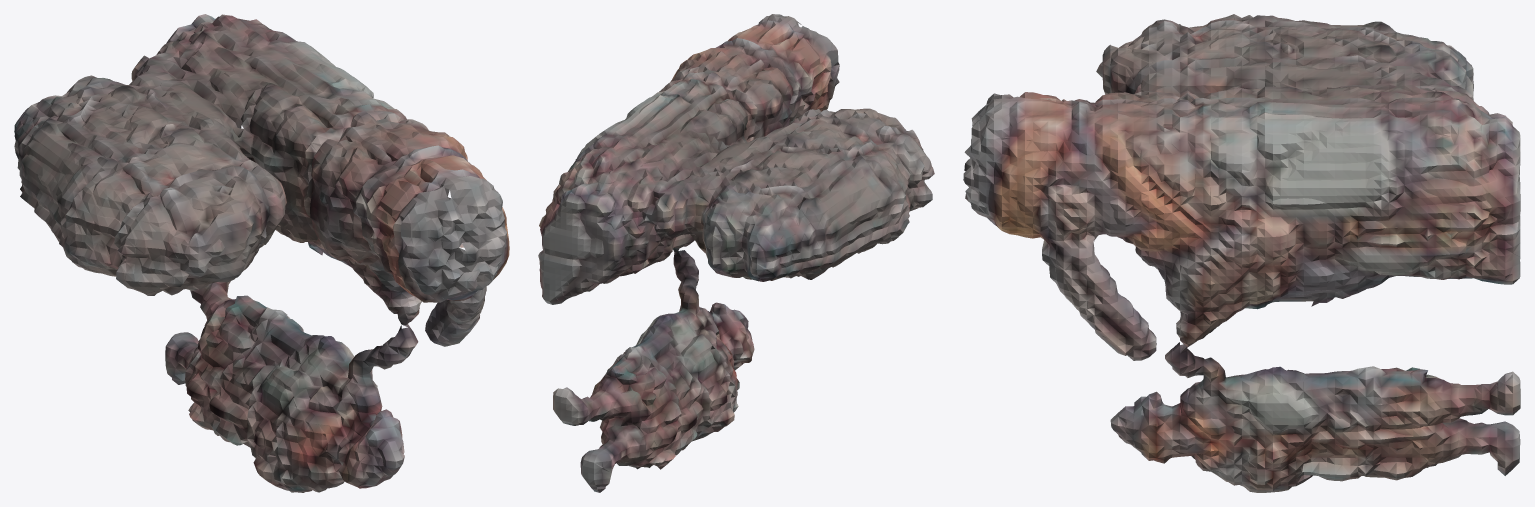
File: prehist_scholar_m_0.glb
3 renders of one model, left to right at view 1: azimuth 30°, elevation 25°; view 2: azimuth 150°, elevation 25°; view 3: azimuth 270°, elevation 25°, orthographic. The views are drawn at different scales.
Parts seen in each view (by area): view 1: world; view 2: world; view 3: world.
Boxes of the visible parts, box(x1,y1,x2,y2) form: world: box(14, 14, 509, 492); world: box(538, 14, 934, 492); world: box(963, 14, 1520, 492).
Bounding box in the file's own units: 0.711 × 0.7882 × 0.9858.
